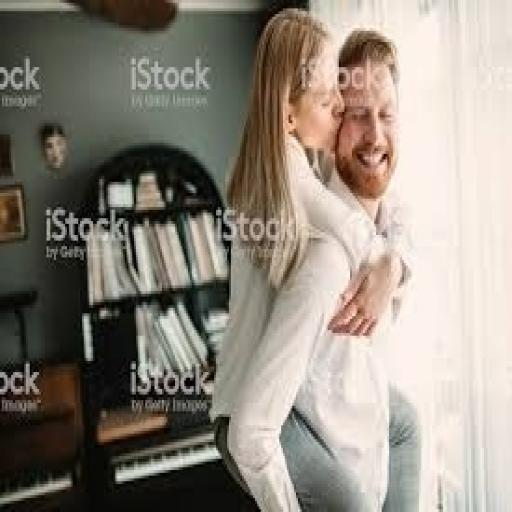hugging: (208, 6, 422, 509)
